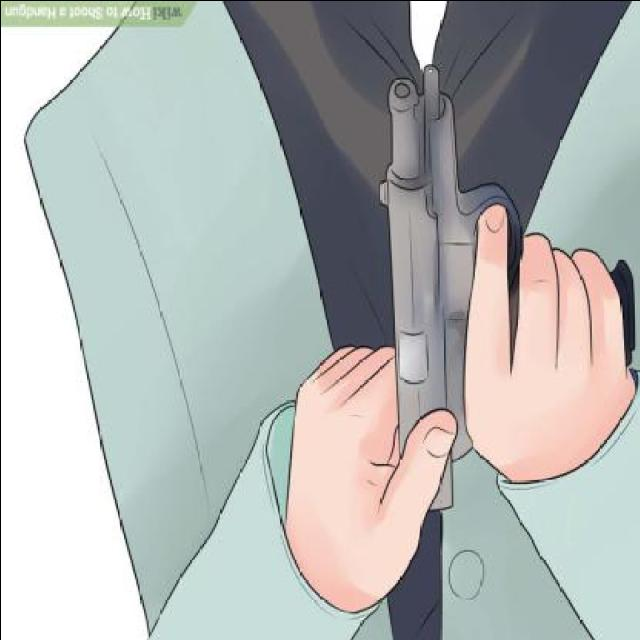pistol: (387, 58, 640, 514)
